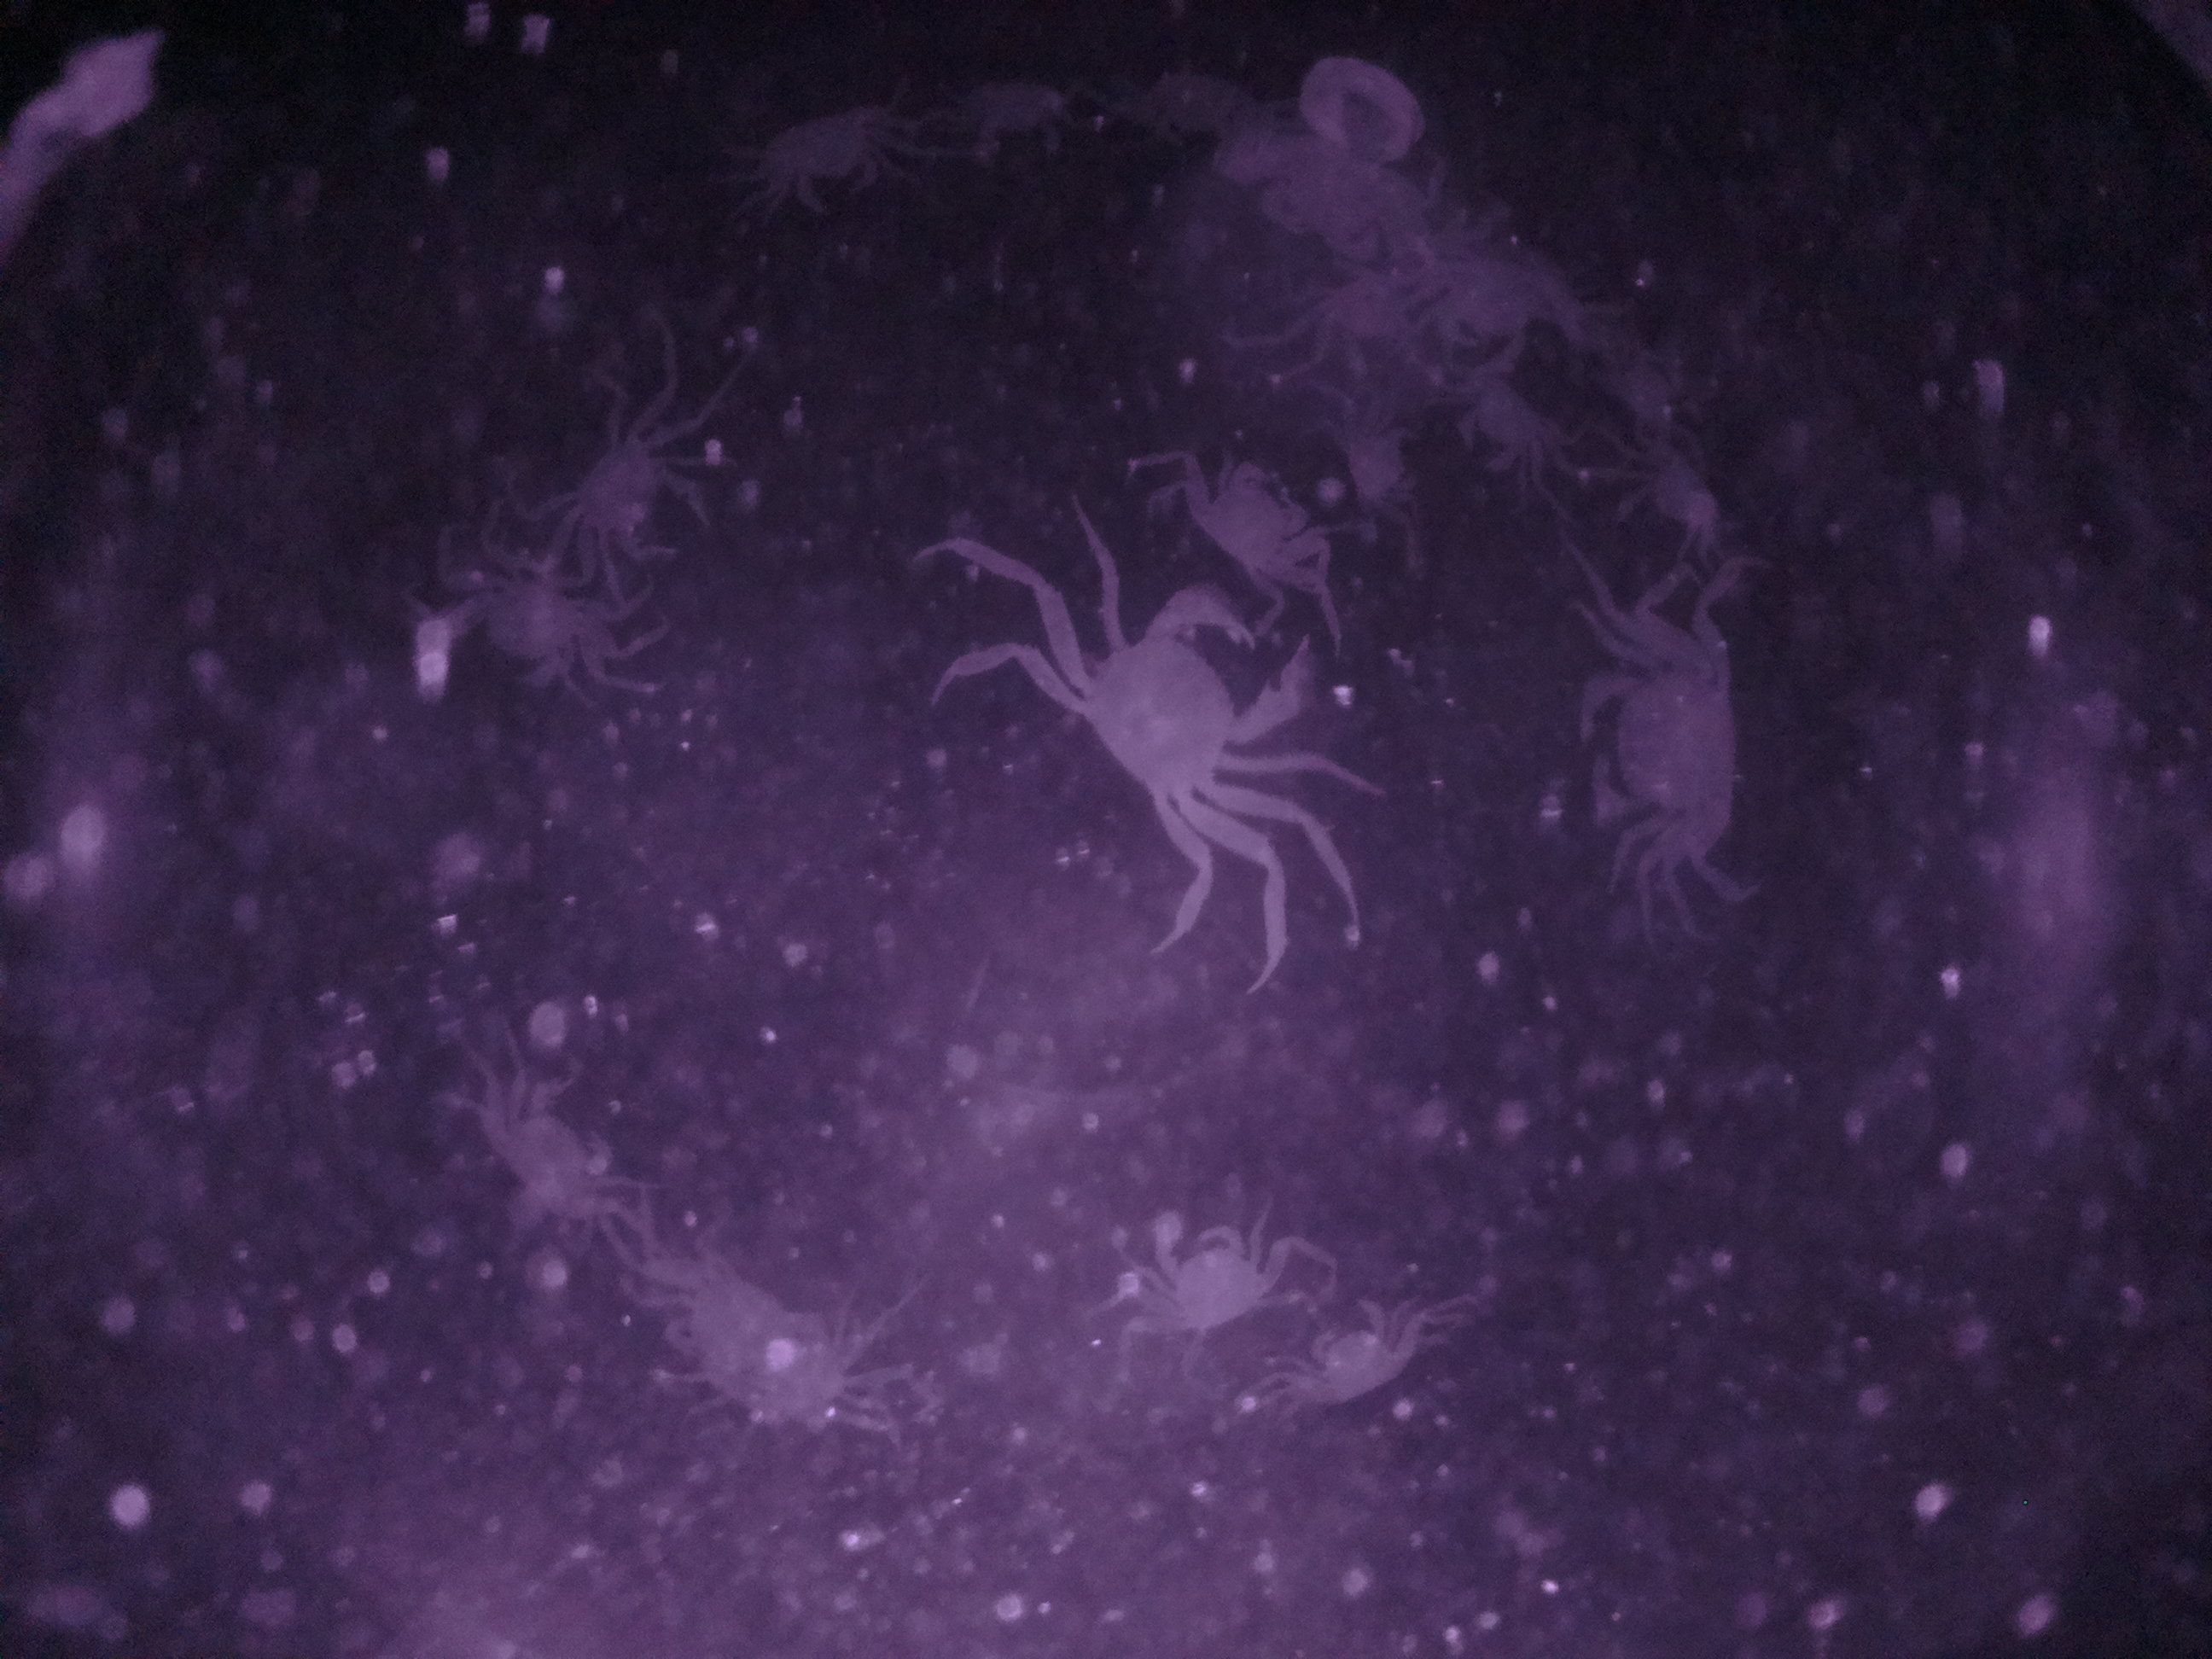Crab: (1024, 587, 1322, 880), (1575, 620, 1750, 882), (556, 404, 723, 580), (1170, 441, 1346, 603), (1127, 1206, 1289, 1361), (763, 101, 928, 232), (1278, 1283, 1423, 1422), (1437, 373, 1561, 490)
